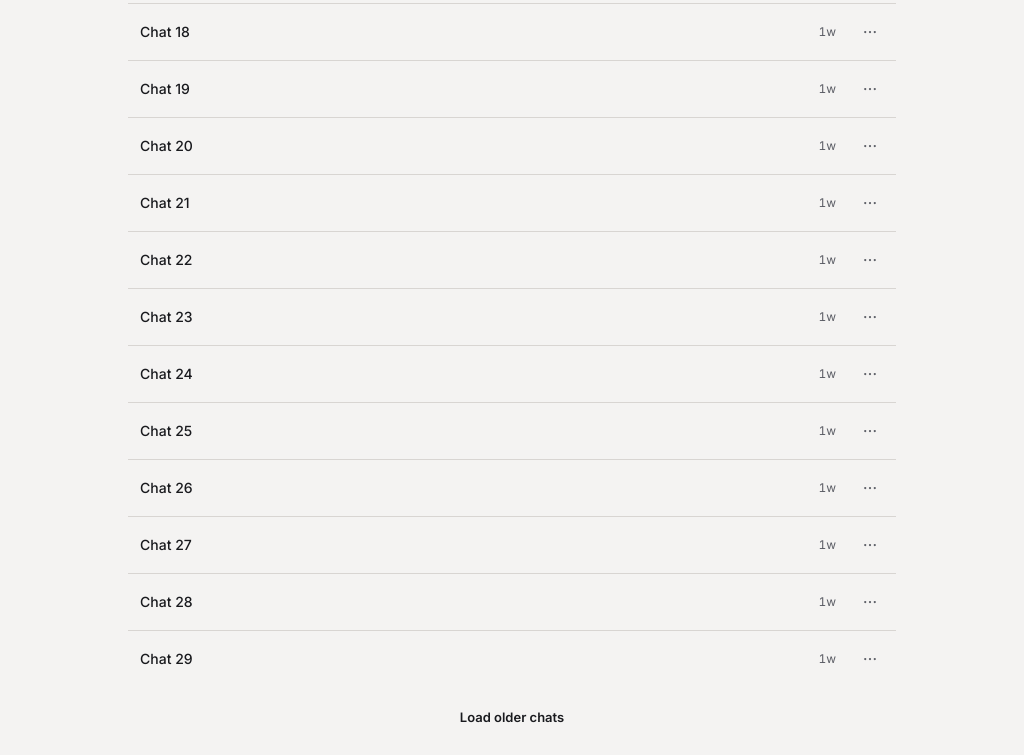
Test: keeps a first-page chat displaced by a new chat when older rows are loaded
The width and height of the screenshot is (1024, 755).
(page scrolled)
Check: the button "Chat 29" is shown, box [132,637,806,681]
Click the button "Load older chats" at (512, 717), box [447,699,577,735]
(page scrolled)
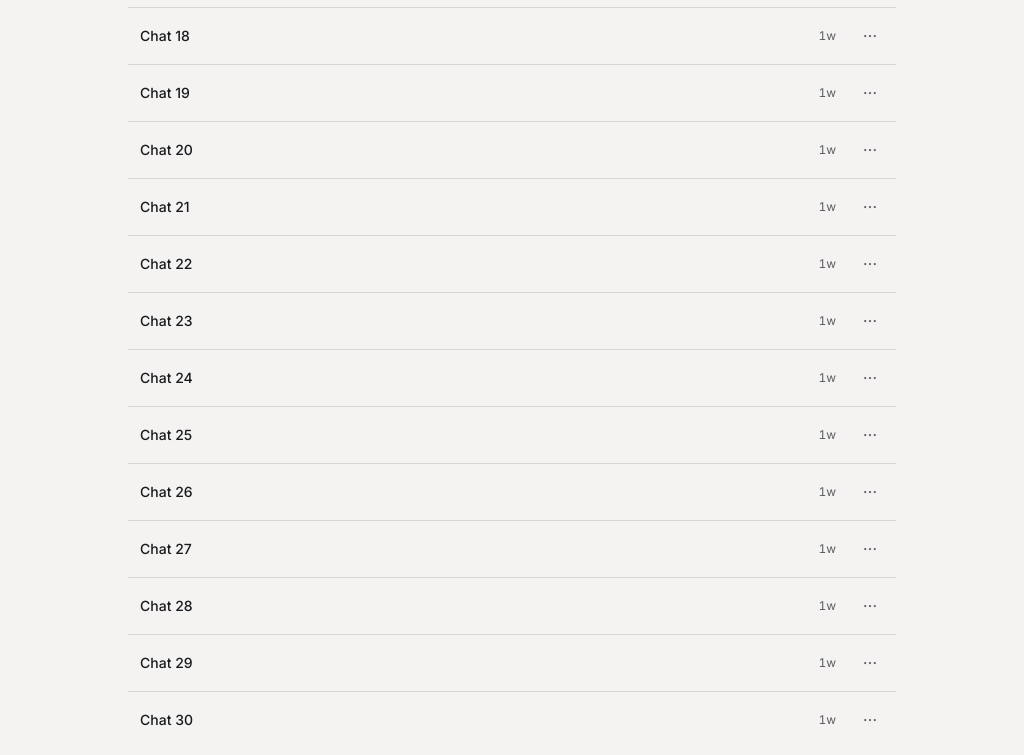
Check: the button "Chat 29" is shown, box [132,641,806,685]
Check: the button "Chat 30" is shown, box [132,698,806,742]
